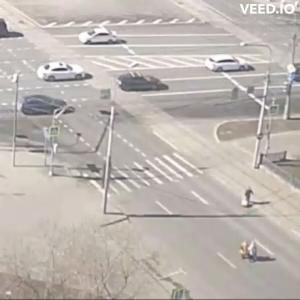car: (118, 73, 170, 94), (39, 63, 89, 83), (22, 96, 69, 117), (207, 56, 256, 75), (81, 32, 121, 46)
